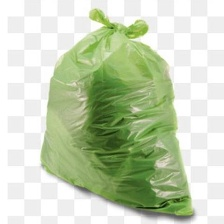plastic_bag: (32, 7, 205, 221)
